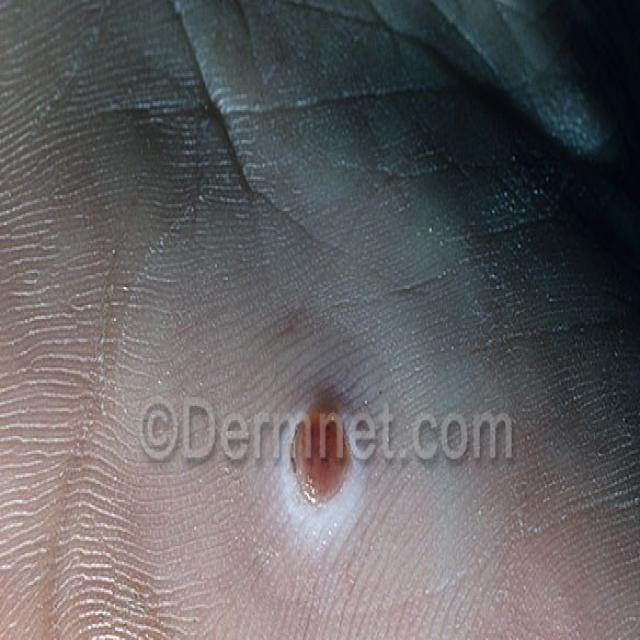Vascular Tumors: (258, 347, 386, 552)
